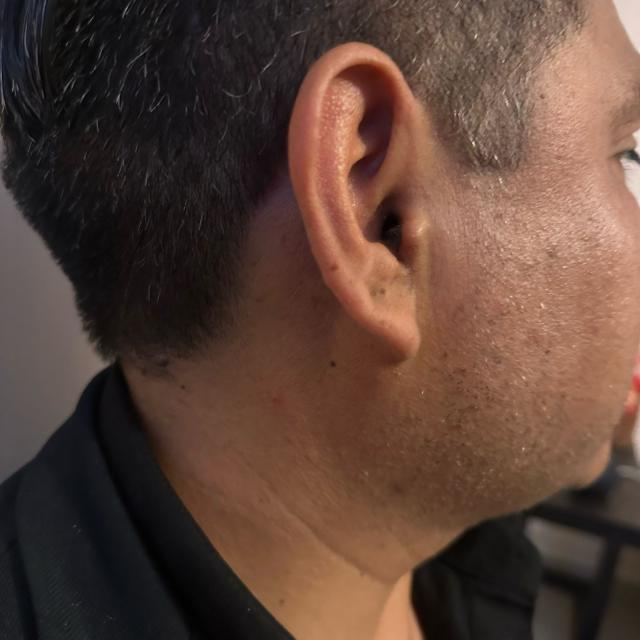ear: (288, 42, 439, 361)
